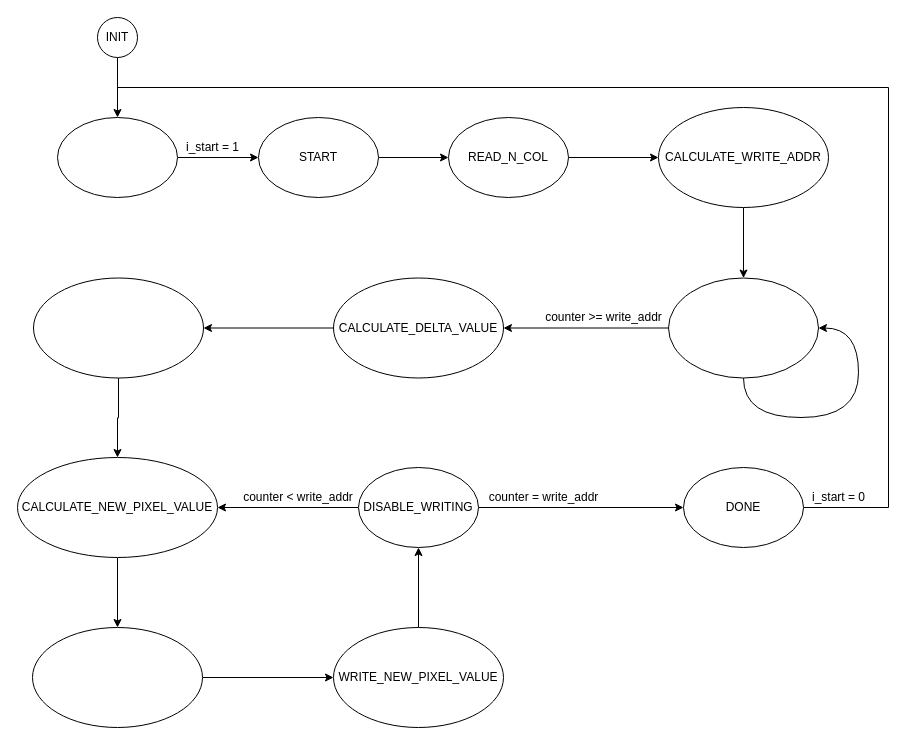
This 907x745 diagram has some shape labels left out. The shapes that lost their labels are listed below. From the top down, each one's centre as x and y in pixels, then its label:
At [117,157]: "RESET".
At [118,327]: "CALCULATE_SHIFT_LEVEL".
At [743,327]: "COMPARE_MAX_MIN".
At [117,677]: "CHECK_NEW_PIXEL_VALUE".
